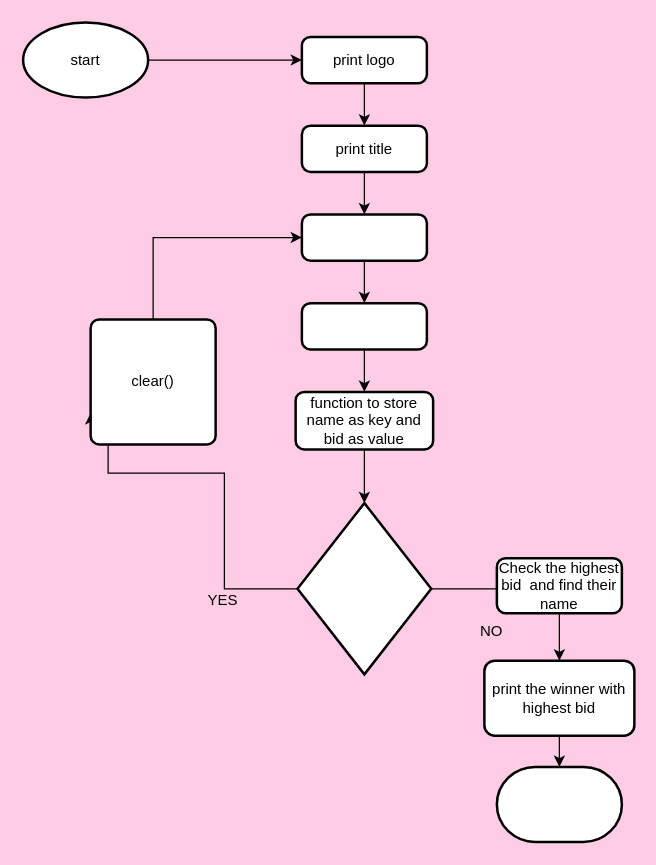
The diagram is 656 pixels wide and 865 high, and some of its shapes have lost their labels. Here are the shapes that lost their labels. From the top down, the box of each, then its label:
(300, 212, 428, 261): ask name
(300, 301, 428, 350): ask bid
(296, 501, 432, 675): check if other users exist or not
(495, 765, 622, 842): end
